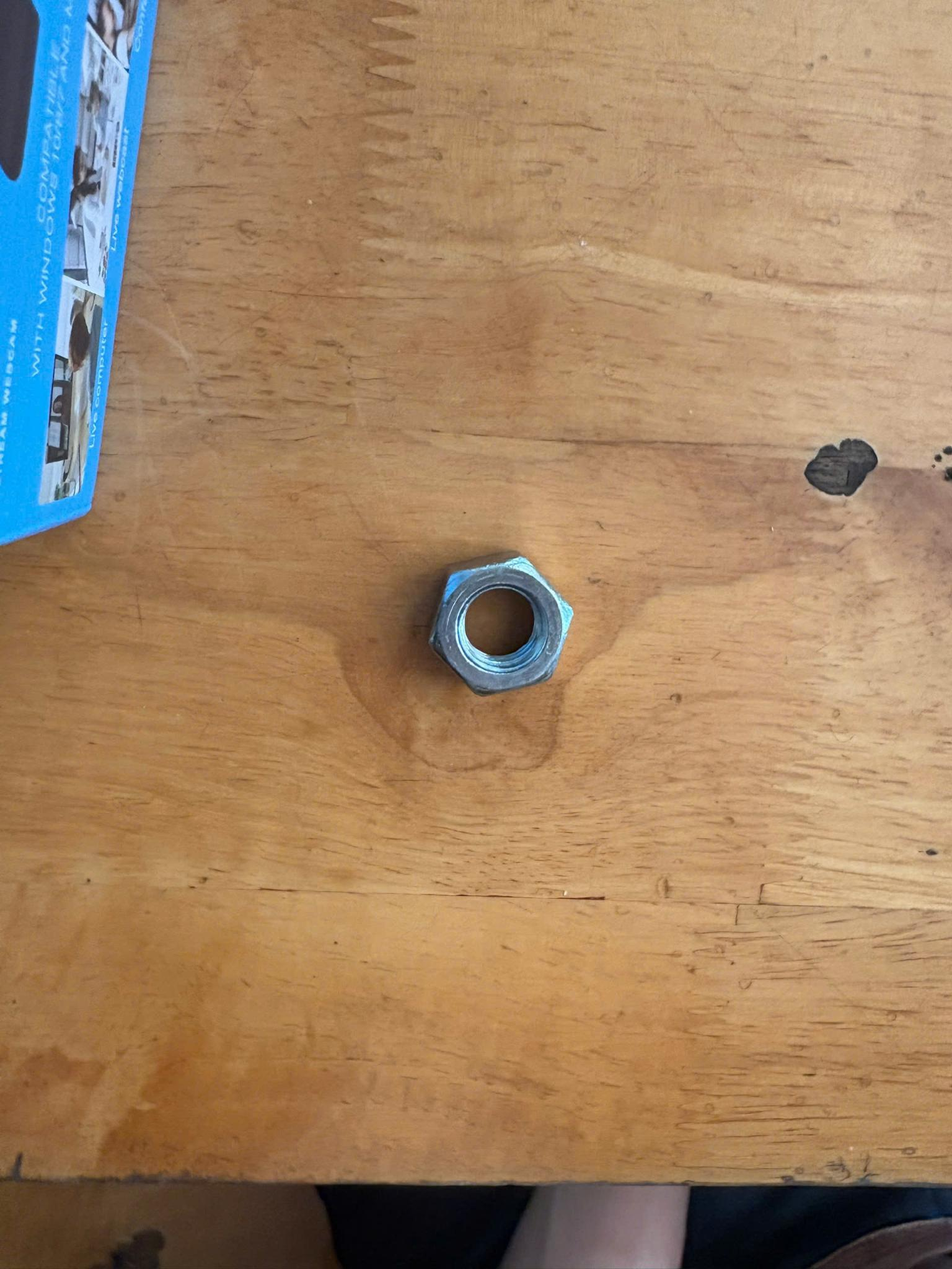nut: (424, 546, 583, 716)
